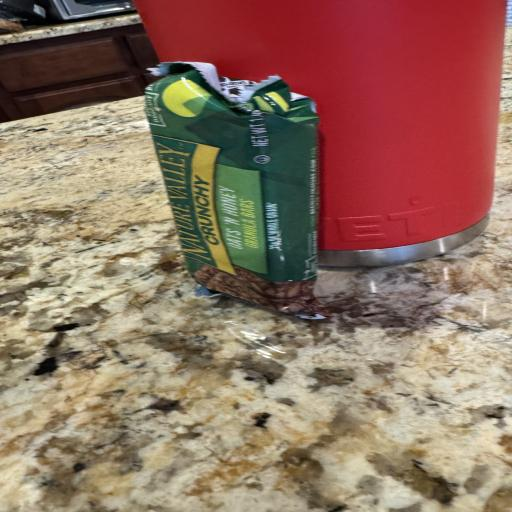granola: (146, 63, 328, 317)
